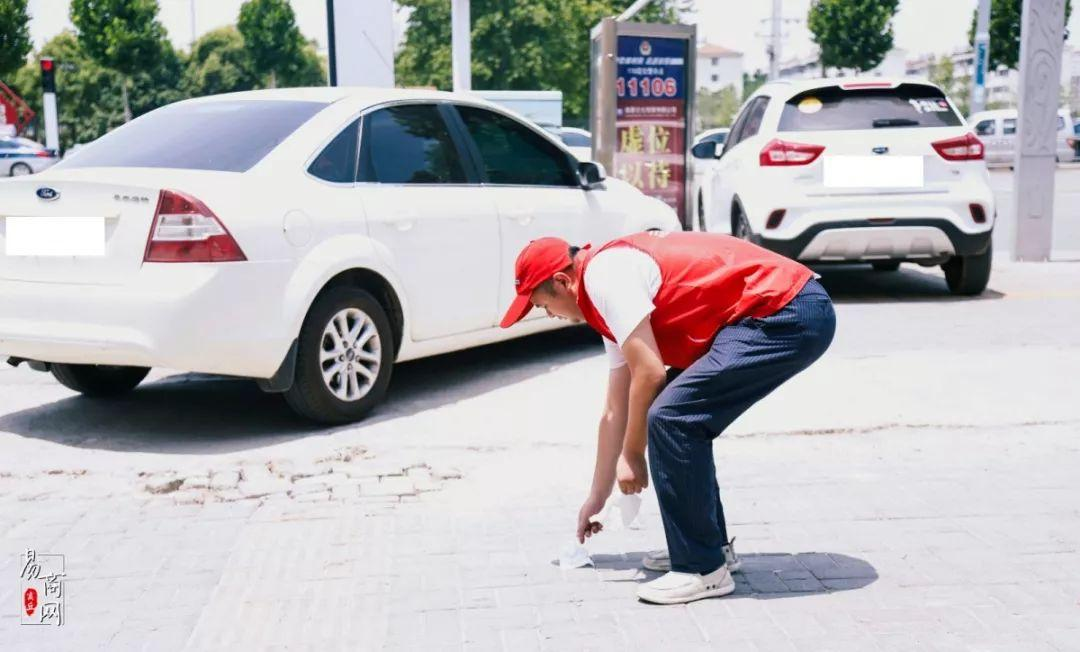bending: (502, 224, 847, 609)
